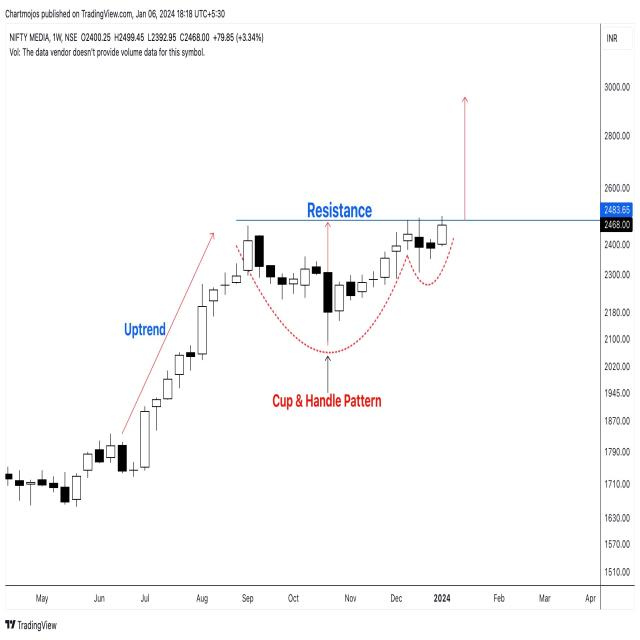Cup-and-handle: (230, 219, 455, 329)
